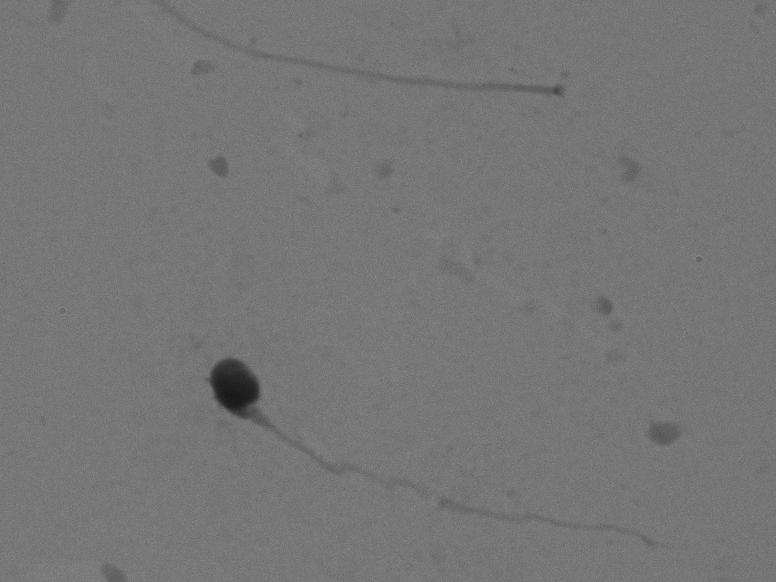Abnormal: (165, 341, 720, 547)
